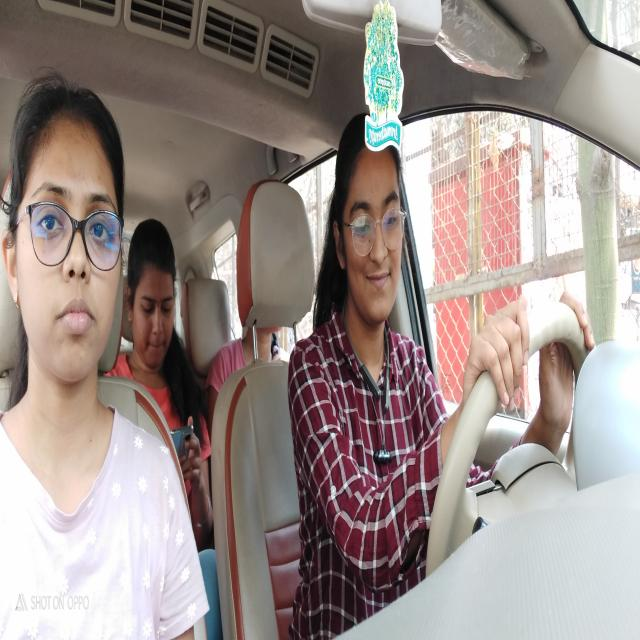person: (1, 69, 126, 394), (336, 118, 412, 335), (126, 217, 178, 370)
